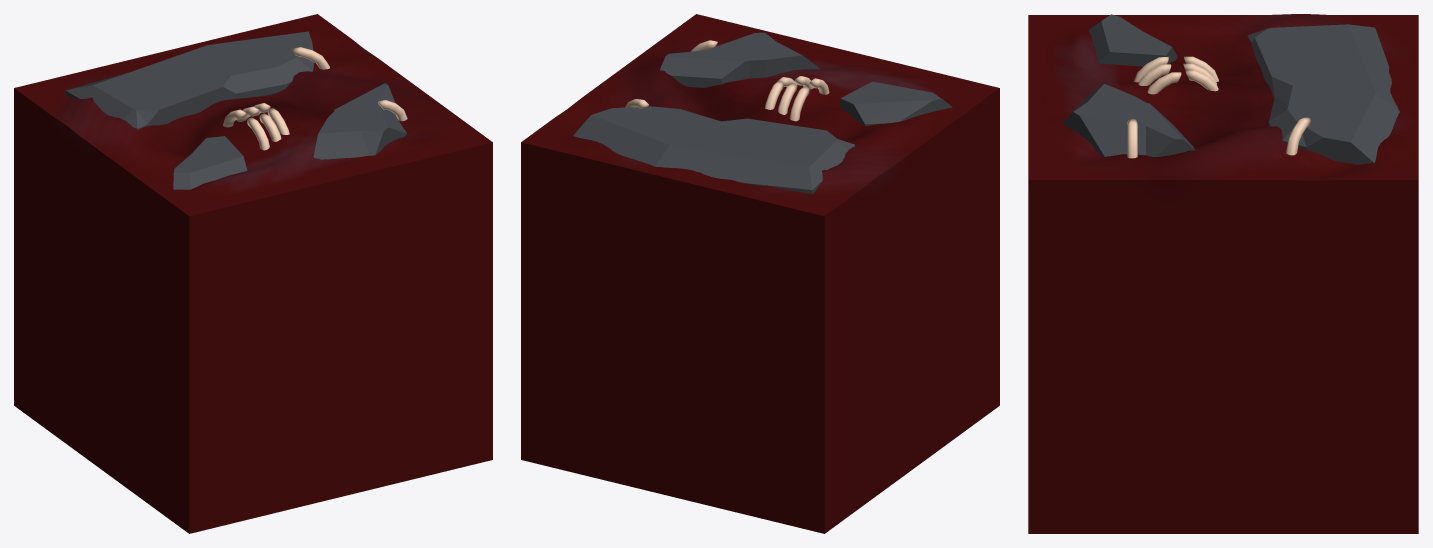
The model's file is FloorTile (1).fbx.
3 renders of one model, left to right at view 1: azimuth 30°, elevation 25°; view 2: azimuth 150°, elevation 25°; view 3: azimuth 270°, elevation 25°, orthographic. The views are drawn at different scales.
Visible parts, largest first — view 1: Cube, Plane.001, Plane.002, Plane; view 2: Cube, Plane.001, Plane.002, Plane; view 3: Cube, Plane.001, Plane.002, Plane, Cube.001.
Boxes of the visible parts, x1=… form: Cube: x1=14, y1=14, x2=492, y2=533; Plane.001: x1=65, y1=31, x2=314, y2=129; Plane.002: x1=313, y1=83, x2=406, y2=159; Plane: x1=173, y1=136, x2=247, y2=189; Cube: x1=521, y1=14, x2=999, y2=533; Plane.001: x1=573, y1=106, x2=855, y2=194; Plane.002: x1=660, y1=32, x2=820, y2=87; Plane: x1=840, y1=81, x2=952, y2=125; Cube: x1=1028, y1=14, x2=1418, y2=533; Plane.001: x1=1247, y1=24, x2=1399, y2=164; Plane.002: x1=1062, y1=84, x2=1194, y2=156; Plane: x1=1088, y1=14, x2=1177, y2=66; Cube.001: x1=1286, y1=117, x2=1310, y2=155.
Bounding box in the file's own units: 200 × 214 × 200.
